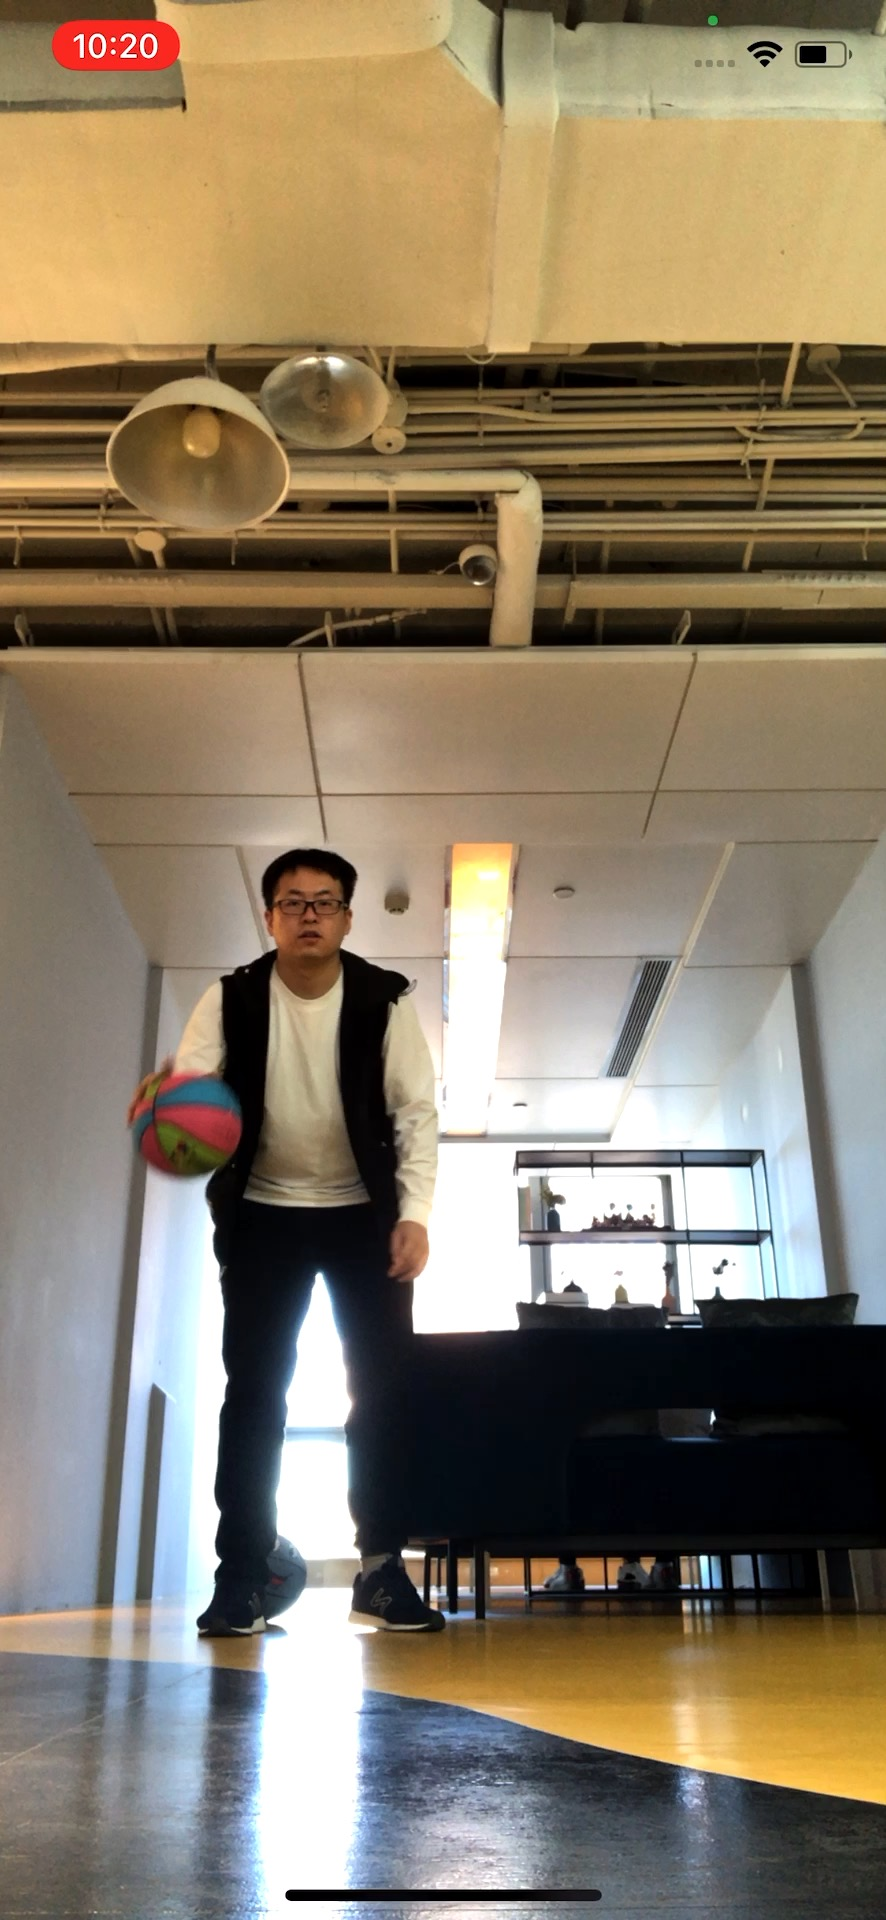ball: (131, 1068, 241, 1176)
